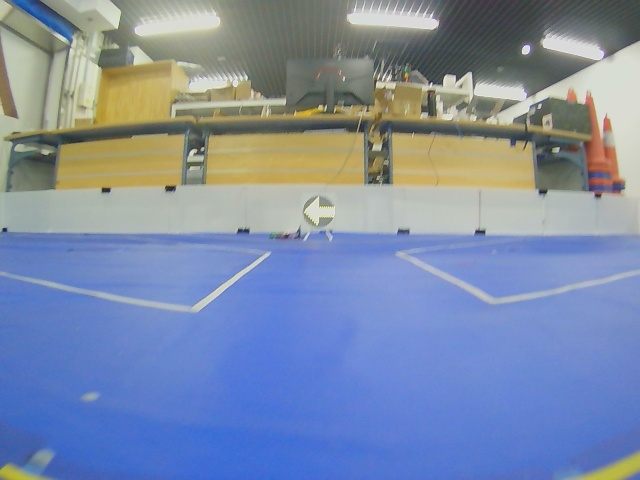left_yellow: (303, 196, 336, 227)
